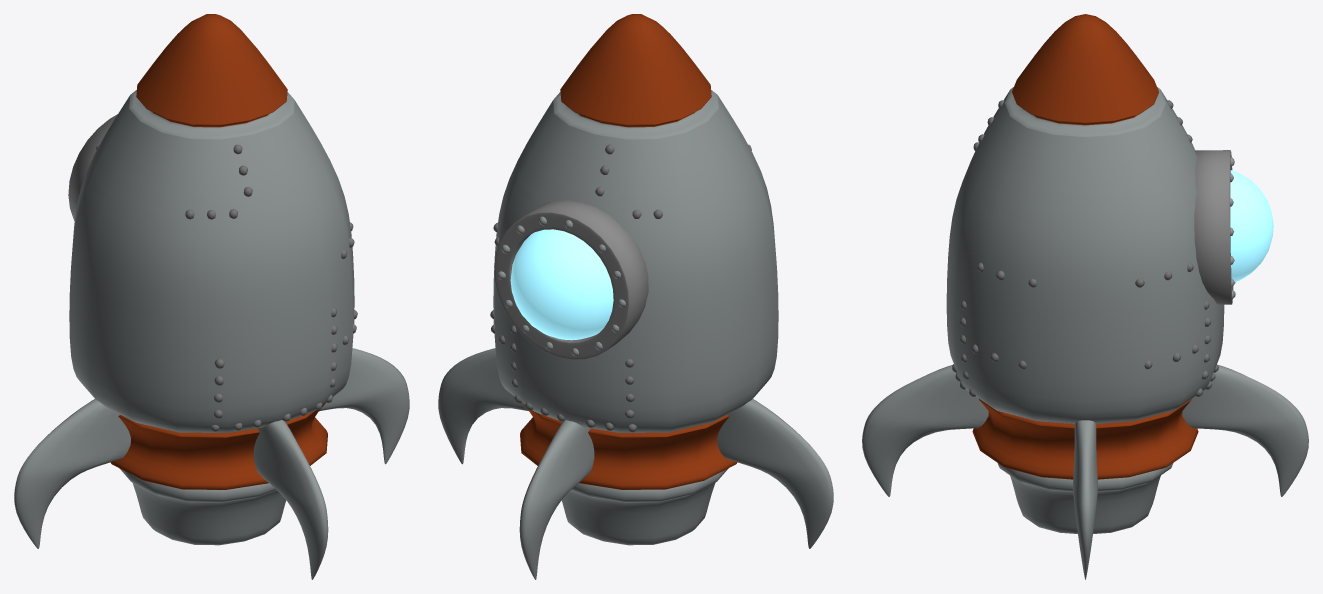
File: Ship Grey_Red.fbx
3 views of the same model, side by side, from view 1: azimuth 30°, elevation 25°; view 2: azimuth 150°, elevation 25°; view 3: azimuth 270°, elevation 25° (orthographic). The views are drawn at different scales.
Parts seen in each view (by area): view 1: Body, Fin3, Fin4, Fin1, Window Cover; view 2: Body, Window Cover, Glass Window, Fin3, Fin2, Fin1; view 3: Body, Fin4, Fin2, Window Cover, Glass Window, Fin1.
Boxes of the visible parts, box(x1,y1,x2,y2) form: Body: box(69, 14, 354, 545); Fin3: box(14, 399, 130, 548); Fin4: box(253, 420, 328, 579); Fin1: box(319, 348, 409, 464); Window Cover: box(68, 114, 117, 220); Body: box(493, 14, 778, 545); Window Cover: box(494, 200, 648, 359); Glass Window: box(510, 229, 613, 340); Fin3: box(717, 399, 833, 548); Fin2: box(519, 420, 594, 579); Fin1: box(438, 348, 528, 464); Body: box(946, 14, 1224, 533); Fin4: box(862, 365, 988, 496); Fin2: box(1182, 365, 1308, 496); Window Cover: box(1194, 150, 1233, 304); Glass Window: box(1230, 170, 1273, 282); Fin1: box(1073, 420, 1097, 579).
Bounding box in the file's own units: 417 × 509 × 417.
